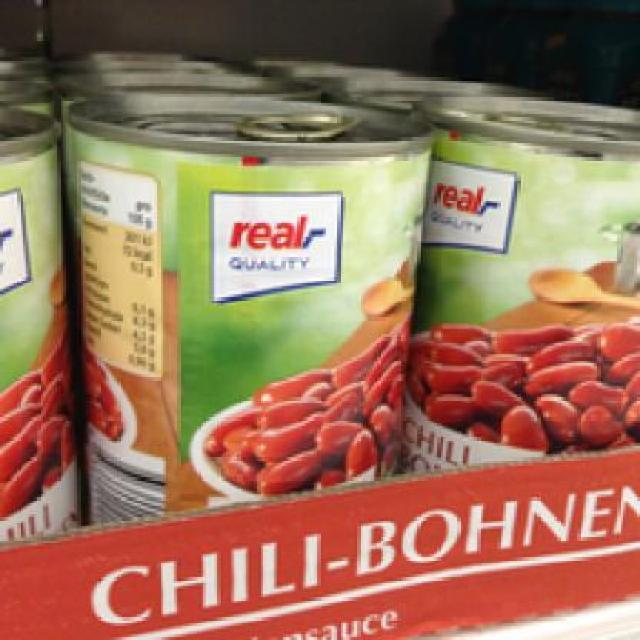Beans: (59, 91, 414, 560), (428, 83, 638, 486)
